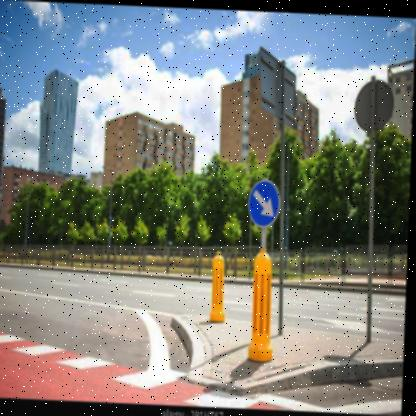Keep right: (248, 174, 285, 229)
